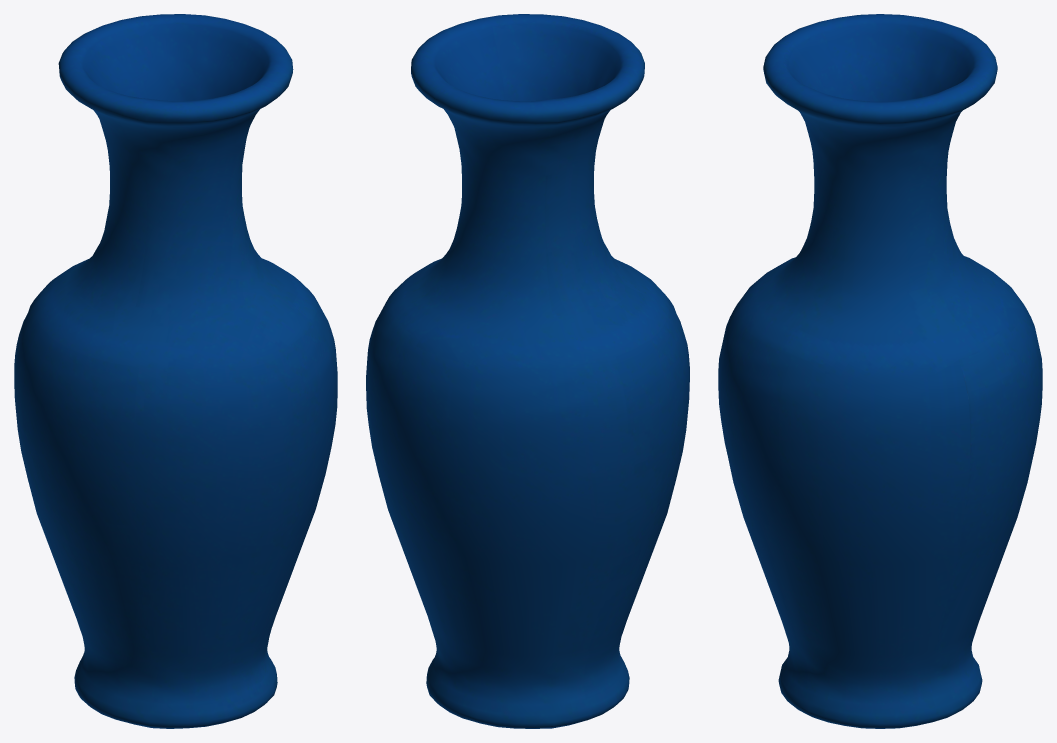
The model's file is a_blue_vase_sculpture_fd909777_v2.glb.
3 views of the same model, side by side, from view 1: azimuth 30°, elevation 25°; view 2: azimuth 150°, elevation 25°; view 3: azimuth 270°, elevation 25° (orthographic).
Parts seen in each view (by area): view 1: material; view 2: material; view 3: material.
Boxes of the visible parts, left/top/right/bottom form: material: left=14, top=14, right=337, bottom=728; material: left=366, top=14, right=689, bottom=728; material: left=718, top=14, right=1042, bottom=728.
Bounding box in the file's own units: 0.8846 × 1.9 × 0.8846.
1 material, 1 textured.
